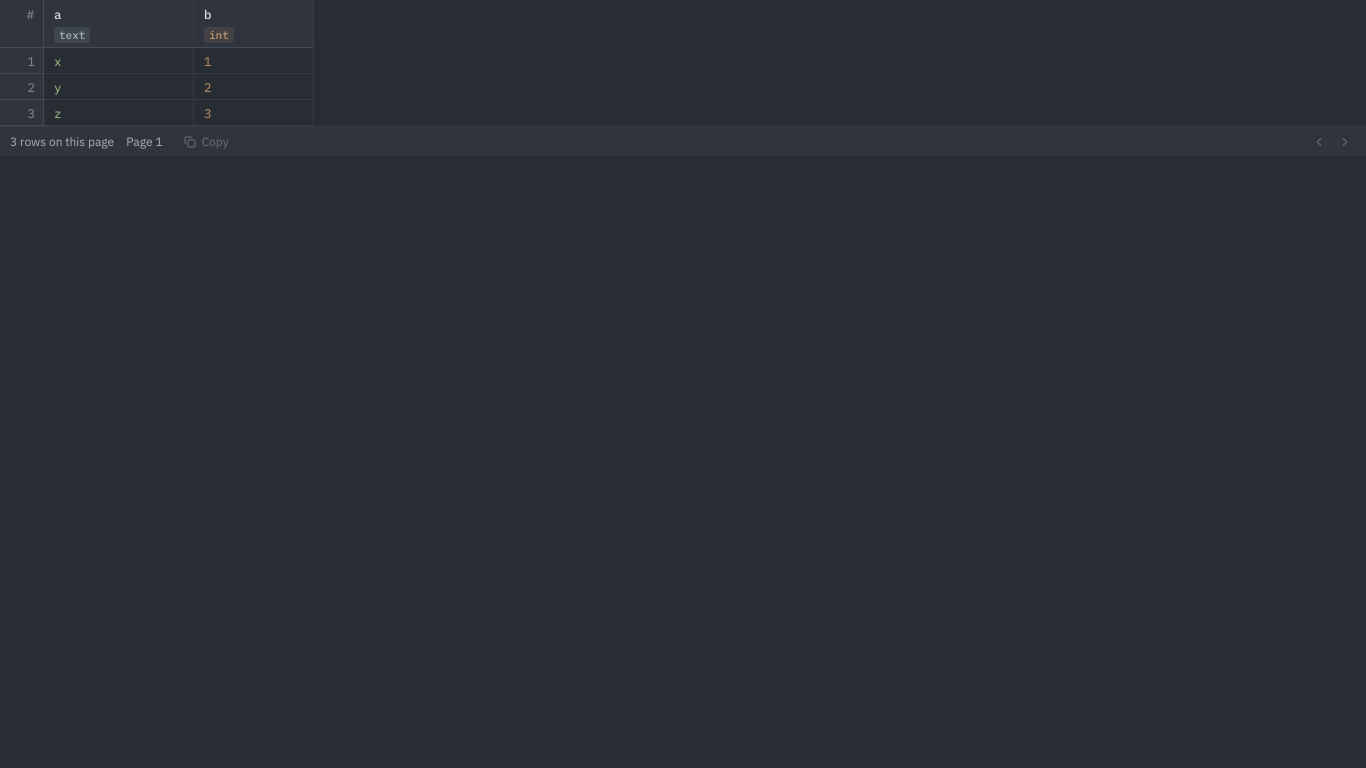
ResultsGrid › row menu › shows the aggregate view from the server figures
Right-click the text "x" at coordinates (58, 61), box [54, 53, 62, 69]
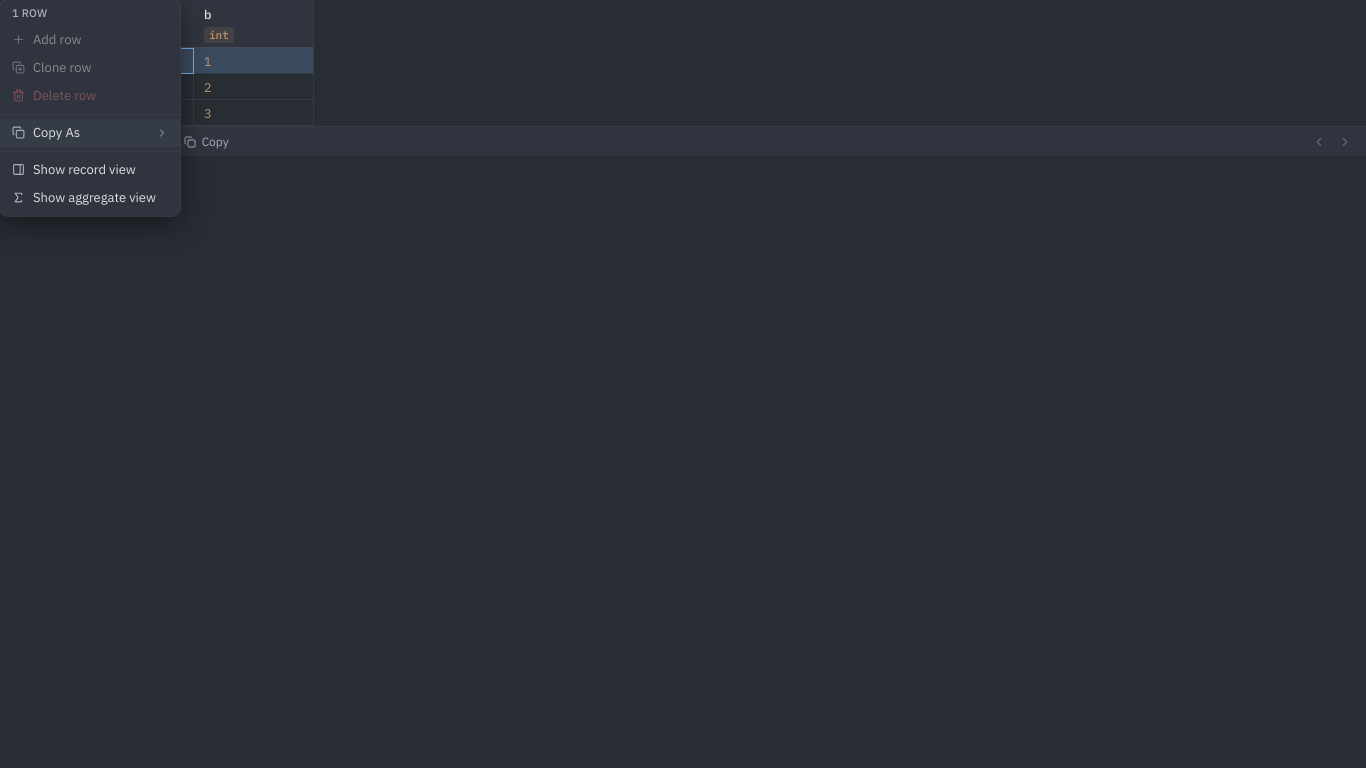
Click the menu item "Show aggregate view". click: coordinates (90, 198)
box: [0, 184, 180, 212]
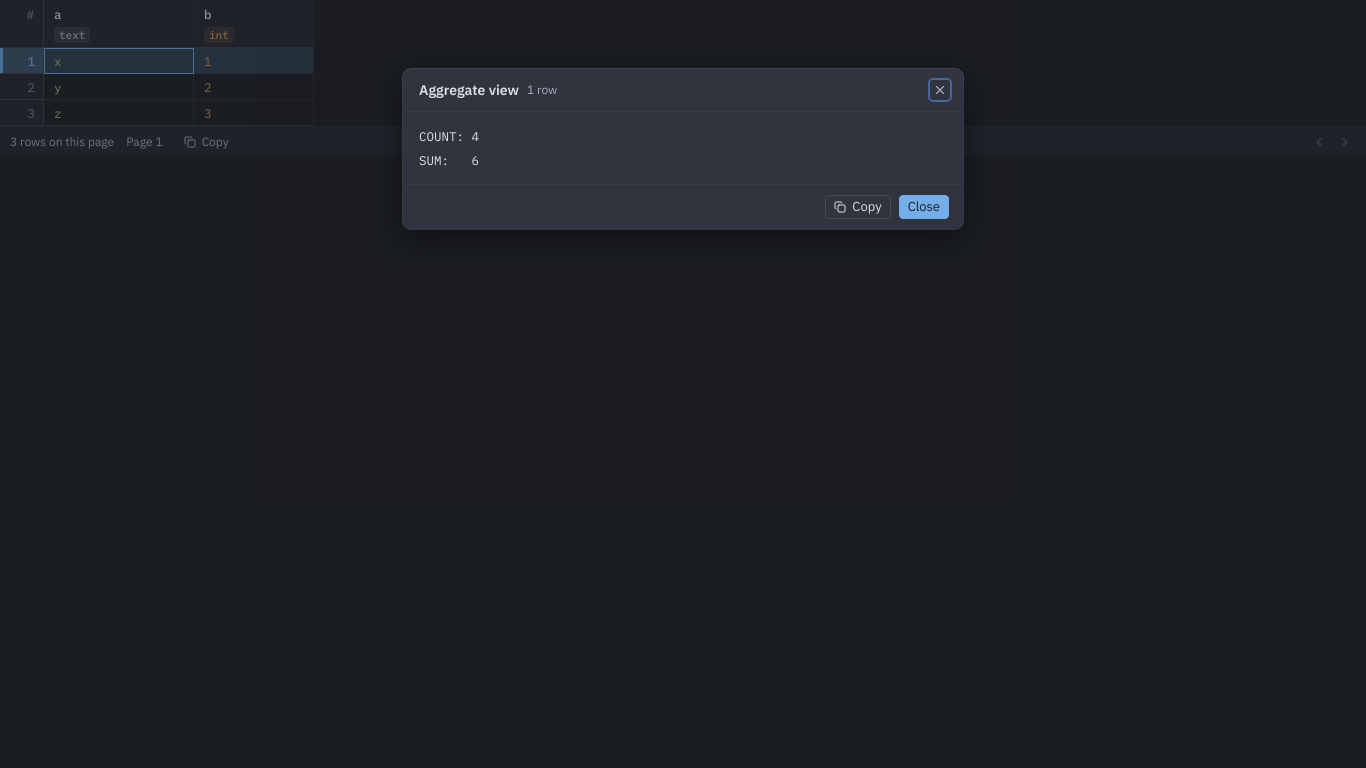
expect the text named "Aggregate figures" reads "COUNT: 4 SUM: 6": met, box [419, 128, 479, 168]
